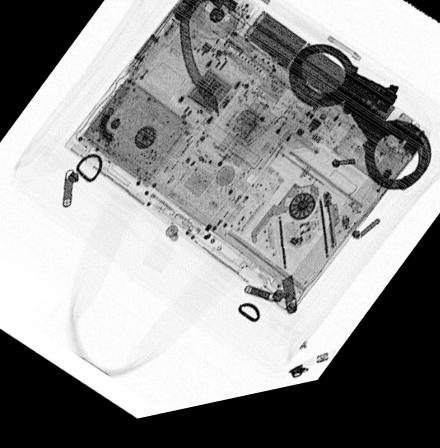HandCuffs: (288, 55, 433, 210)
